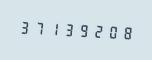eight: (115, 22, 128, 42)
nine: (73, 19, 86, 40)
one: (45, 18, 58, 39)
seven: (31, 17, 44, 38)
three: (17, 16, 30, 37), (59, 19, 72, 39)
two: (87, 20, 100, 41)
zero: (101, 21, 114, 42)
